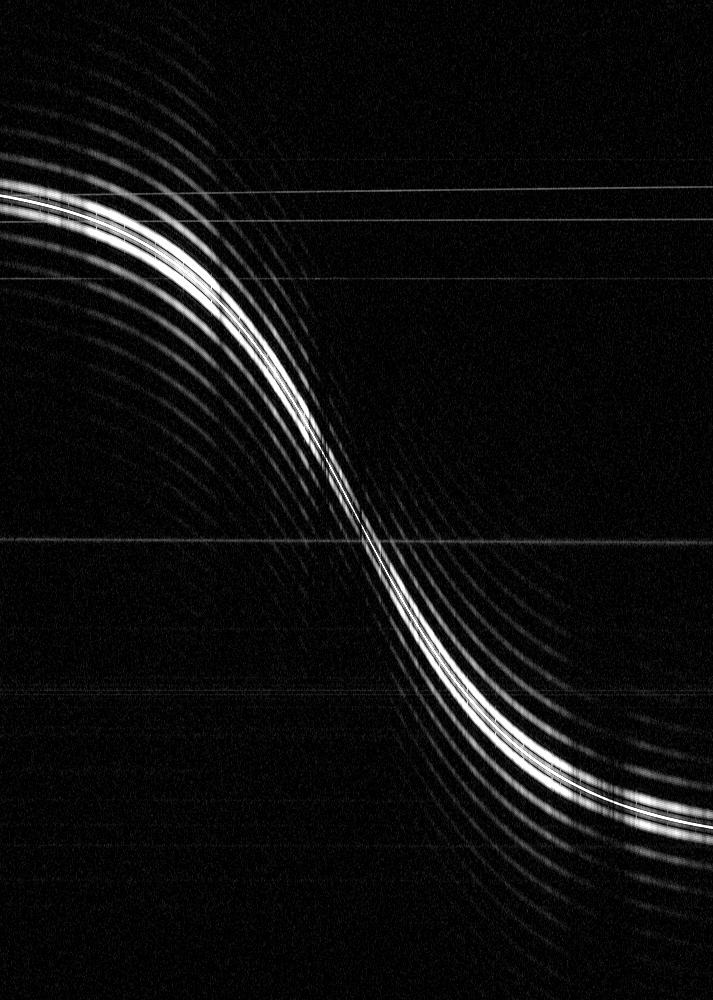signal: (0, 0, 712, 999)
